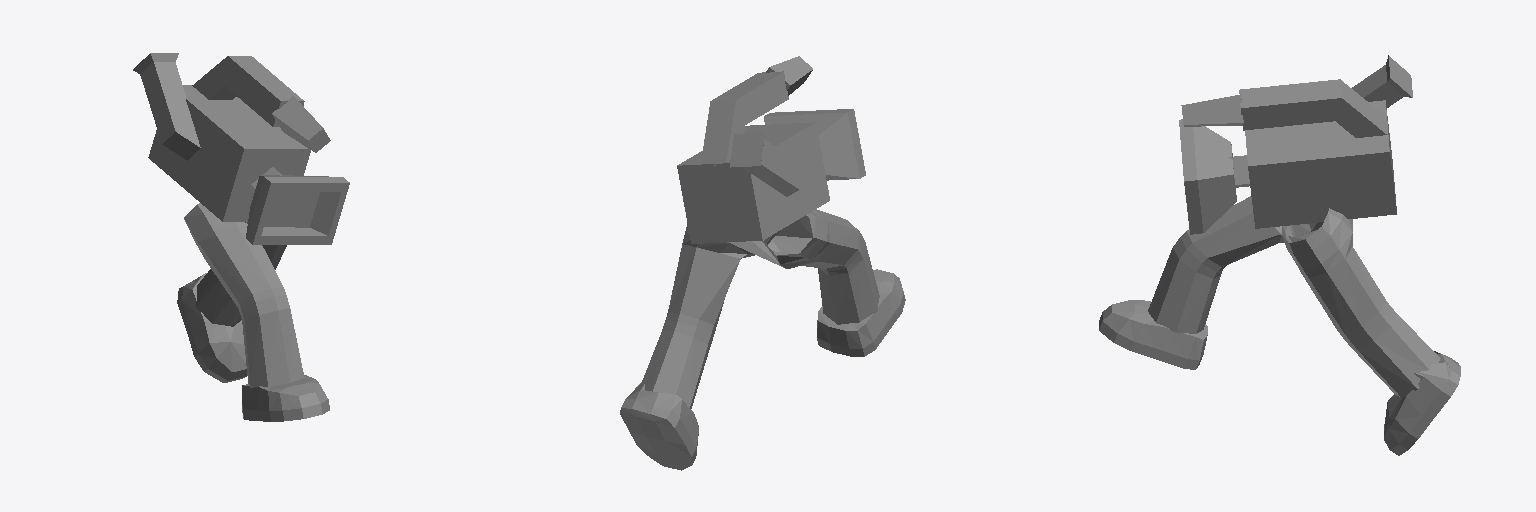
The model's file is cam_3.obj.
The picture shows the model from 3 angles: view 1: azimuth 30°, elevation 25°; view 2: azimuth 150°, elevation 25°; view 3: azimuth 270°, elevation 25°; orthographic projection.
Parts seen in each view (by area): view 1: Box002, Cylinder001; view 2: Cylinder001, Box002; view 3: Box002, Cylinder001.
Boxes of the visible parts, <box> form: Box002: <box>133,53,349,244</box>; Cylinder001: <box>177,203,329,421</box>; Cylinder001: <box>620,209,905,470</box>; Box002: <box>677,56,865,243</box>; Box002: <box>1179,55,1412,234</box>; Cylinder001: <box>1099,196,1460,455</box>.
Size of the model in its own units: 7.41 by 20.01 by 18.5.